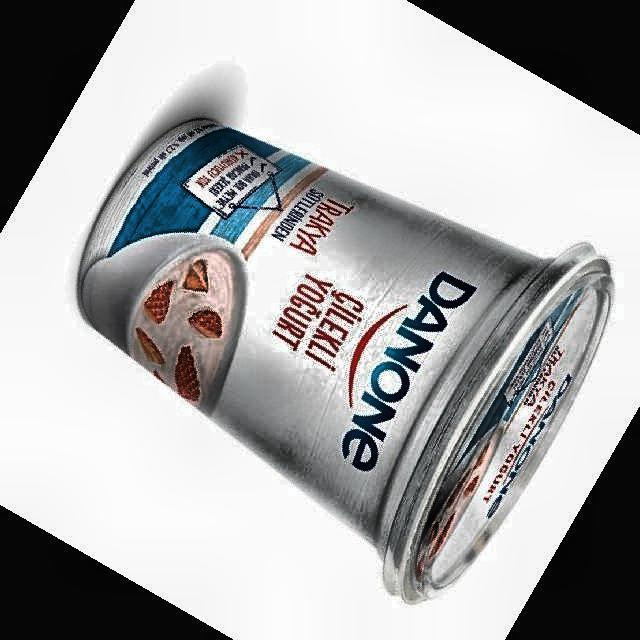plastic: (78, 119, 611, 602)
